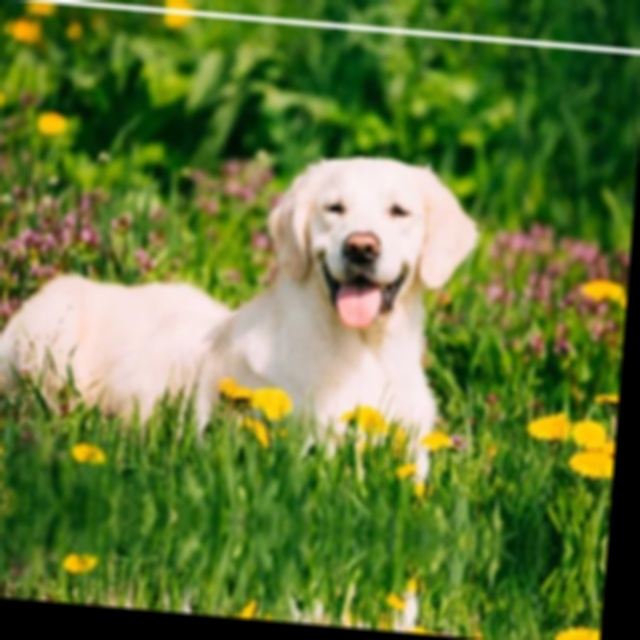dog: (0, 101, 496, 456), (0, 582, 458, 637)
